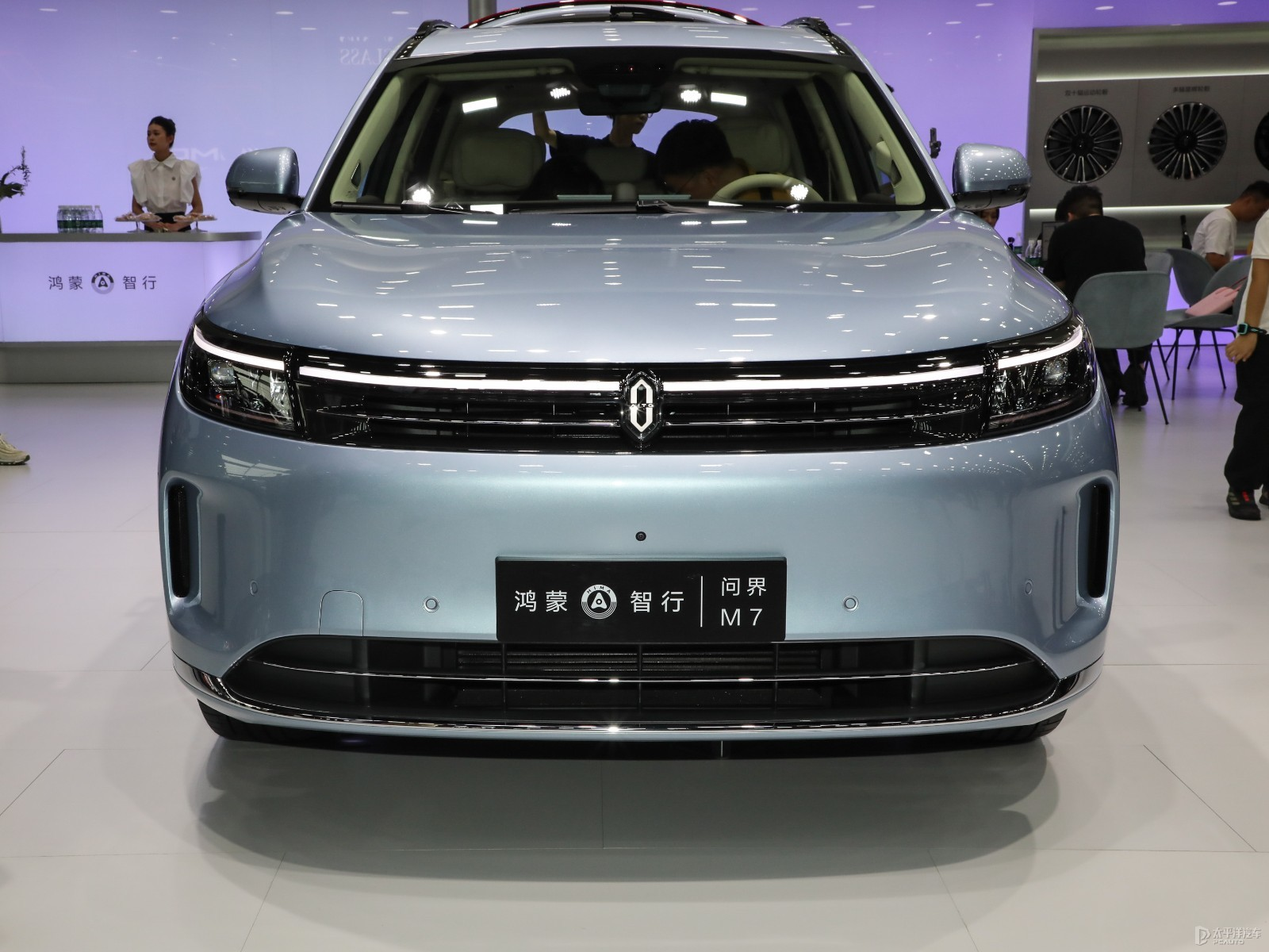AITO: (631, 379, 652, 431)
